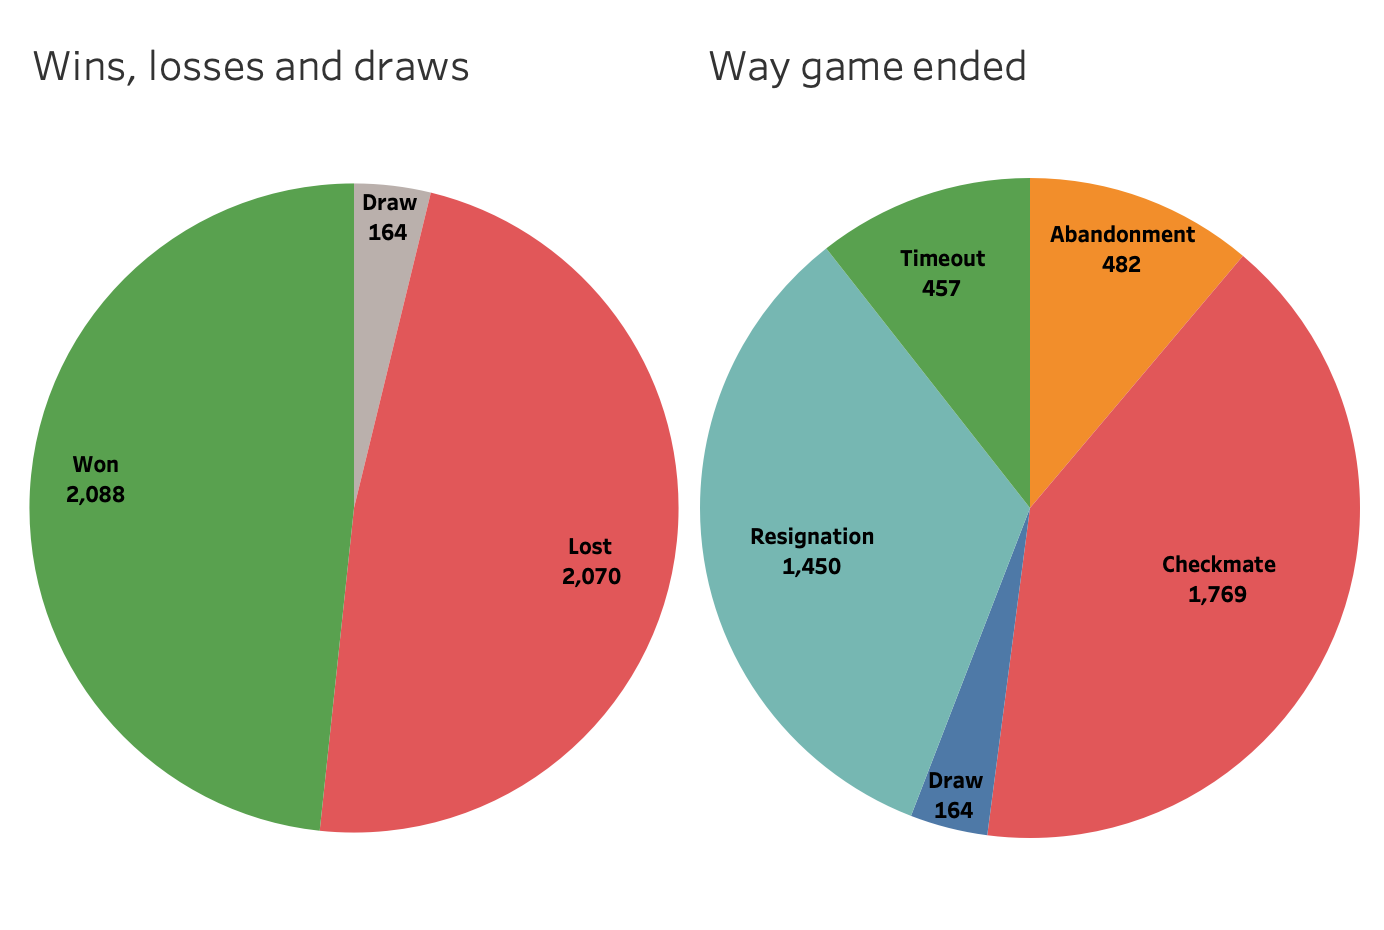

This screenshot's page, from the dashboard's own definition file:
{"tool":"tableau","page":{"name":"pie_charts","canvas":[692,465],"ordinal":1},"visuals":[{"type":"worksheet","title":"wld_pie_chart","mark":"Pie","box":[8,8,338,449]},{"type":"worksheet","title":"result_pie_chart","mark":"Pie","box":[346,8,338,449]}]}

Visuals, with their boxes in screenshot pixels (x1, y1, x2, y2), scaled from the page's 692x465 canvas onto the 1384x930 screenshot:
"wld_pie_chart" worksheet (Pie marks): bbox=(16, 16, 692, 914)
"result_pie_chart" worksheet (Pie marks): bbox=(692, 16, 1368, 914)
